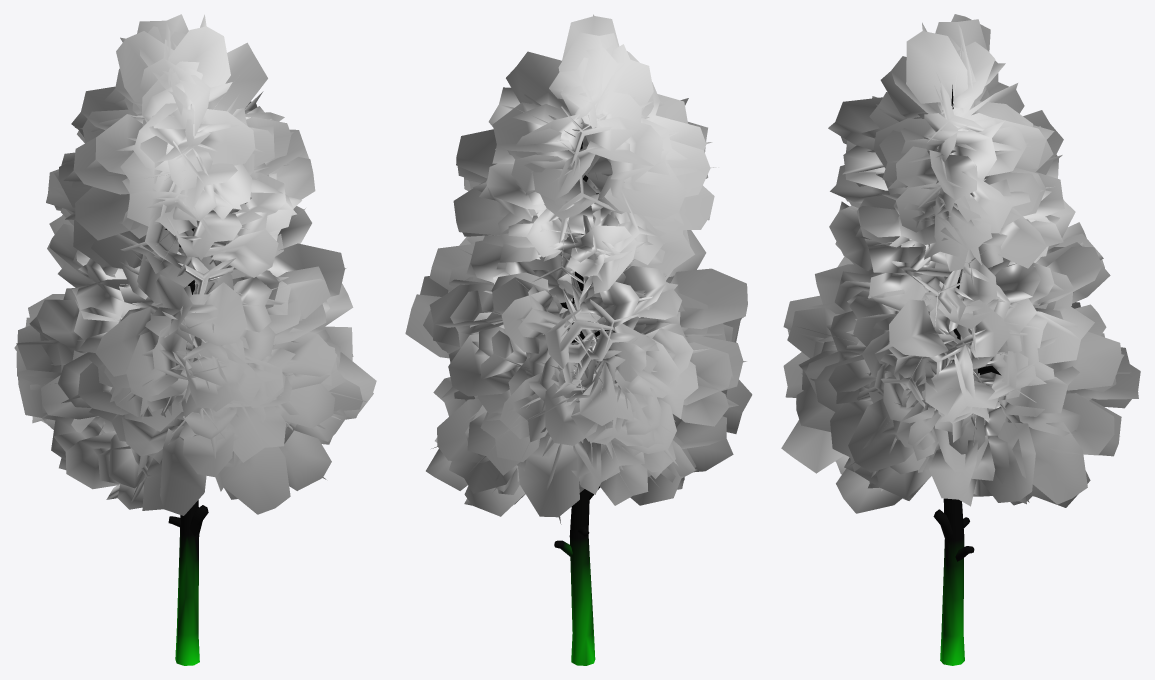
The model's file is SM_FirTree2.FBX.
3 renders of one model, left to right at view 1: azimuth 30°, elevation 25°; view 2: azimuth 150°, elevation 25°; view 3: azimuth 270°, elevation 25°, orthographic. The views are drawn at different scales.
Parts seen in each view (by area): view 1: SM_FirTree2; view 2: SM_FirTree2; view 3: SM_FirTree2.
Boxes of the visible parts, x1,y1,x2,y2 form: SM_FirTree2: (14, 14, 376, 665); SM_FirTree2: (405, 14, 752, 665); SM_FirTree2: (781, 14, 1140, 665).
Bounding box in the file's own units: 879 × 900 × 1747.
